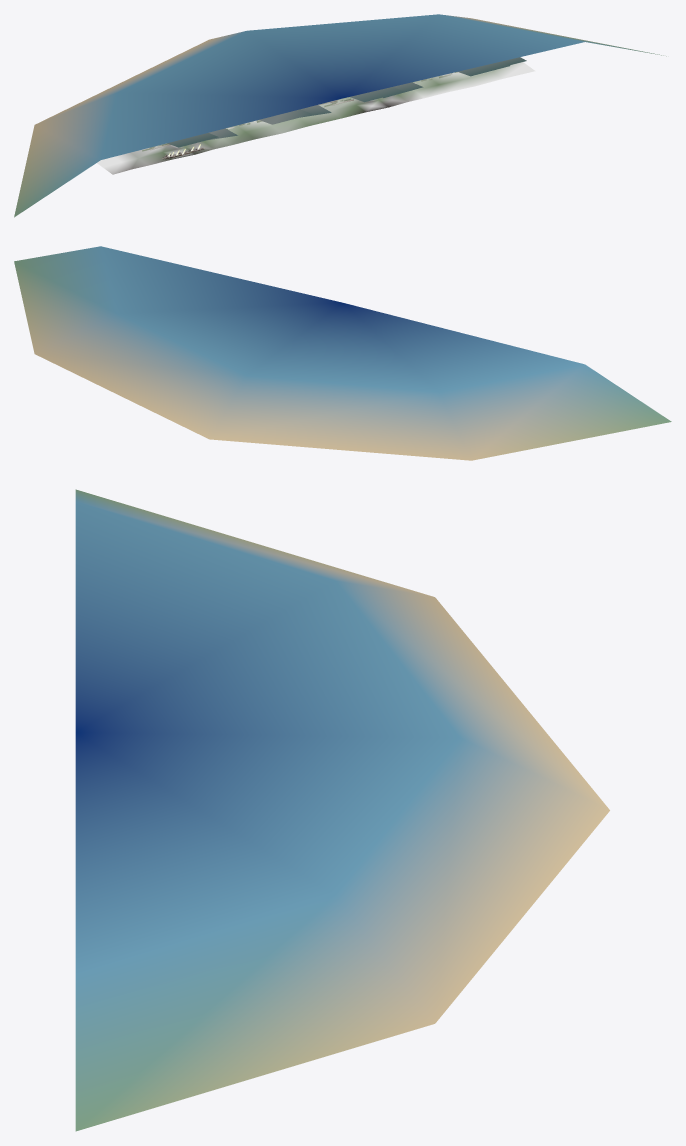
Rendered from Forest_06.fbx.
3 renders of one model, top to bottom at view 1: azimuth 30°, elevation 25°; view 2: azimuth 150°, elevation 25°; view 3: azimuth 270°, elevation 25°, orthographic. The views are drawn at different scales.
Parts seen in each view (by area): view 1: Light_01_ncl1_1, Bg_01_A1, Cloud_01; view 2: Light_01_ncl1_1; view 3: Light_01_ncl1_1.
Part boxes in pixels (<box>): Light_01_ncl1_1: <box>14,14,666,217</box>; Bg_01_A1: <box>97,62,535,174</box>; Cloud_01: <box>167,57,526,147</box>; Light_01_ncl1_1: <box>14,246,671,460</box>; Light_01_ncl1_1: <box>75,489,609,1131</box>.
Size of the model in its own units: 8461 by 478 by 2977.
